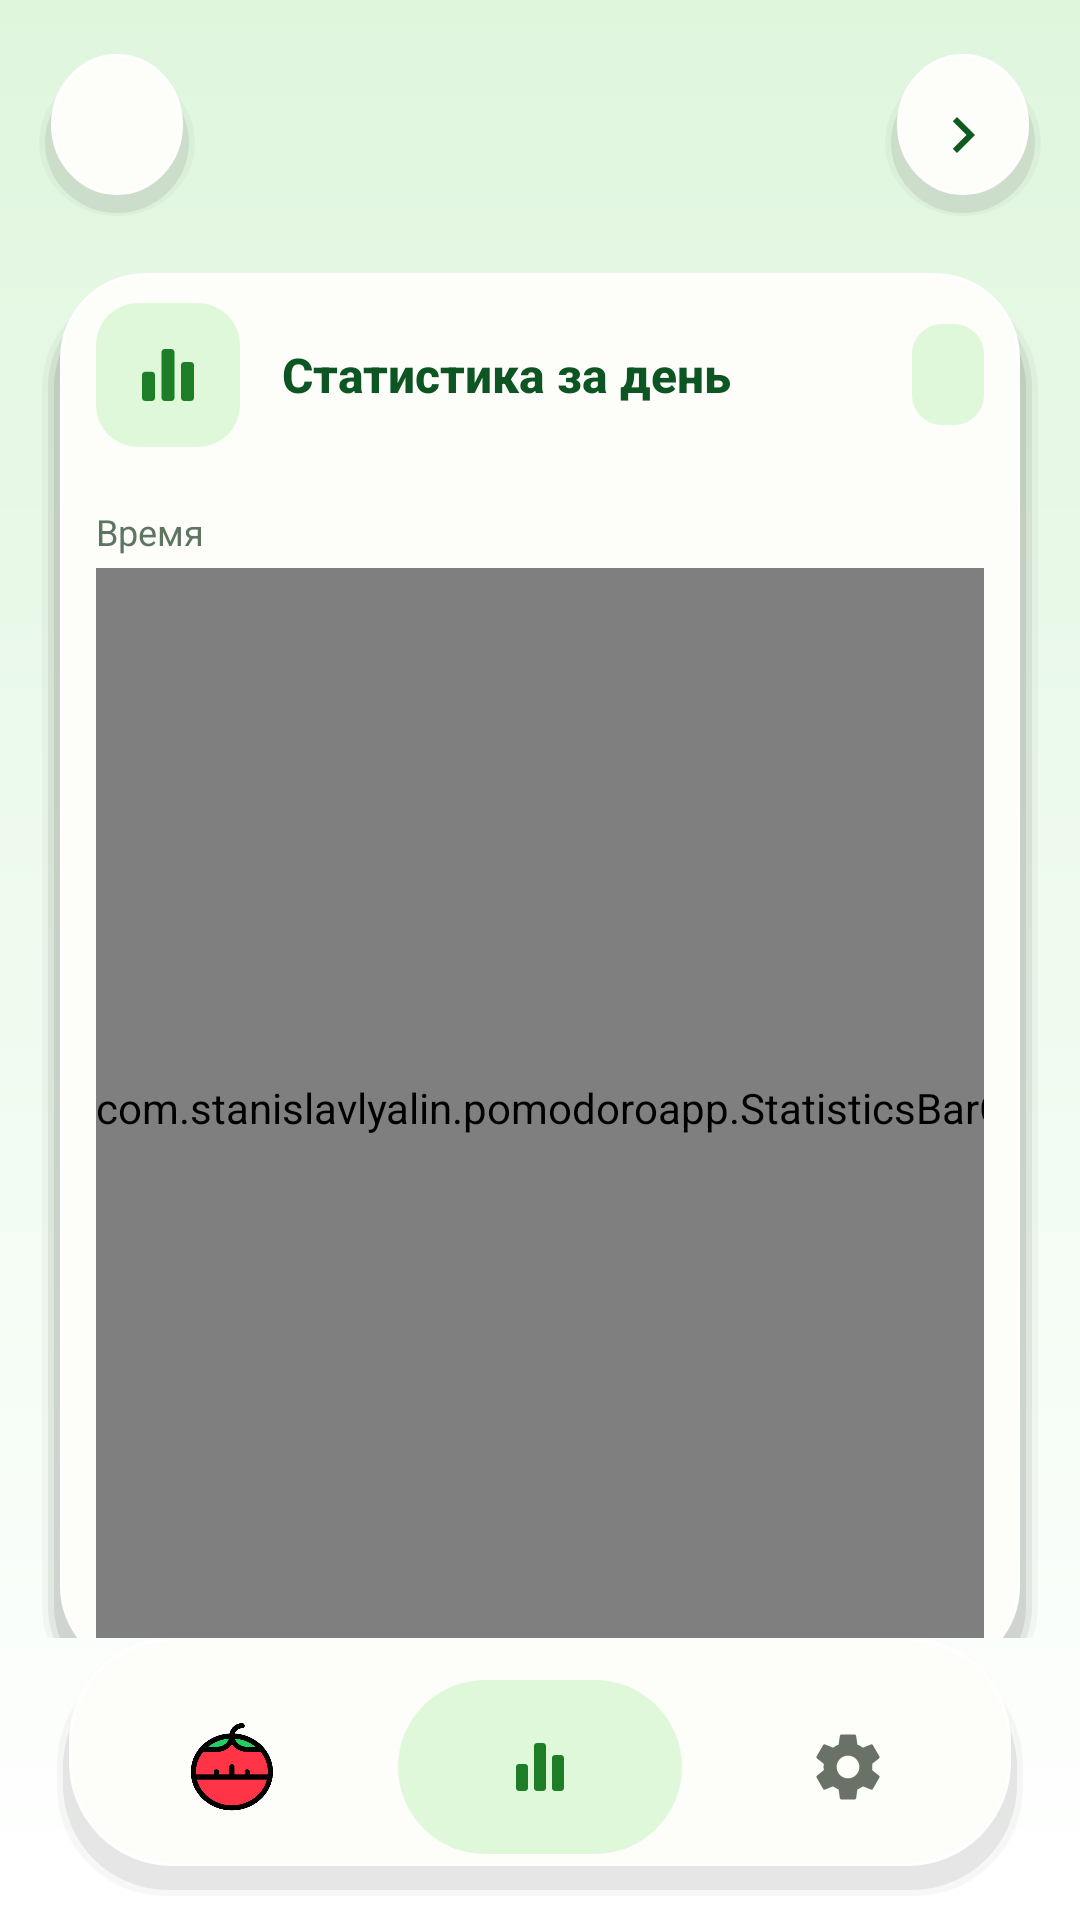

Screen size 1080px×1920px. Icon name, then its box in pixels as detection(x1, y1, x2, y2):
Настройки: detection(816, 1734, 880, 1800)
Следующий день: detection(891, 54, 1035, 213)
